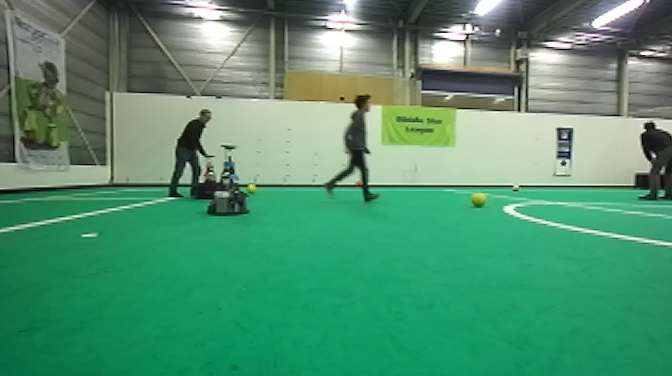ball: (470, 191, 487, 207), (244, 181, 258, 194), (509, 181, 521, 194), (352, 176, 363, 189)
human: (321, 93, 380, 204), (167, 107, 216, 198), (634, 119, 672, 202)
robot: (205, 143, 252, 217), (194, 152, 224, 199)
